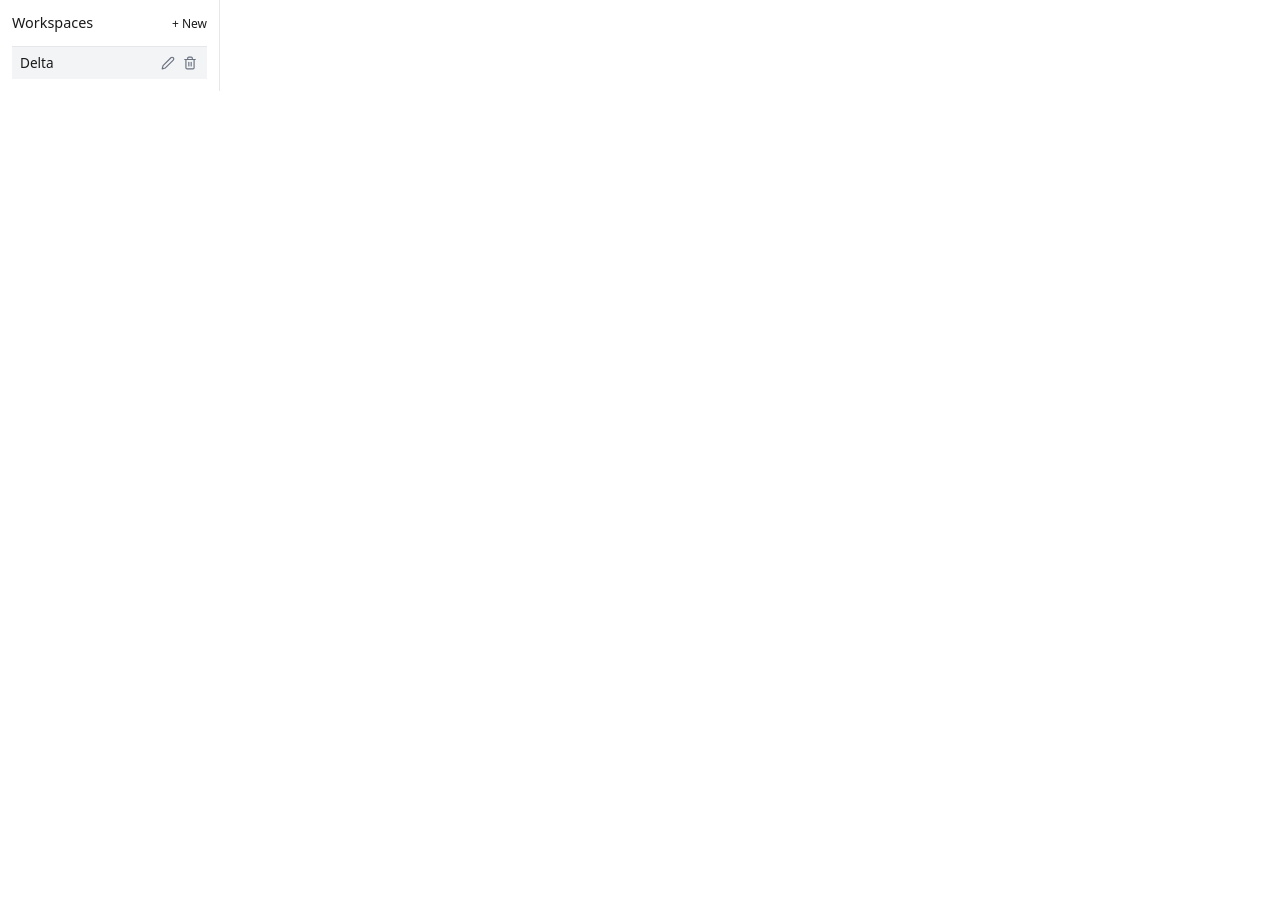
Sidebar › the delete dialog explains what is deleted
Click the button named "Delete": click(190, 63) [181,54,199,72]
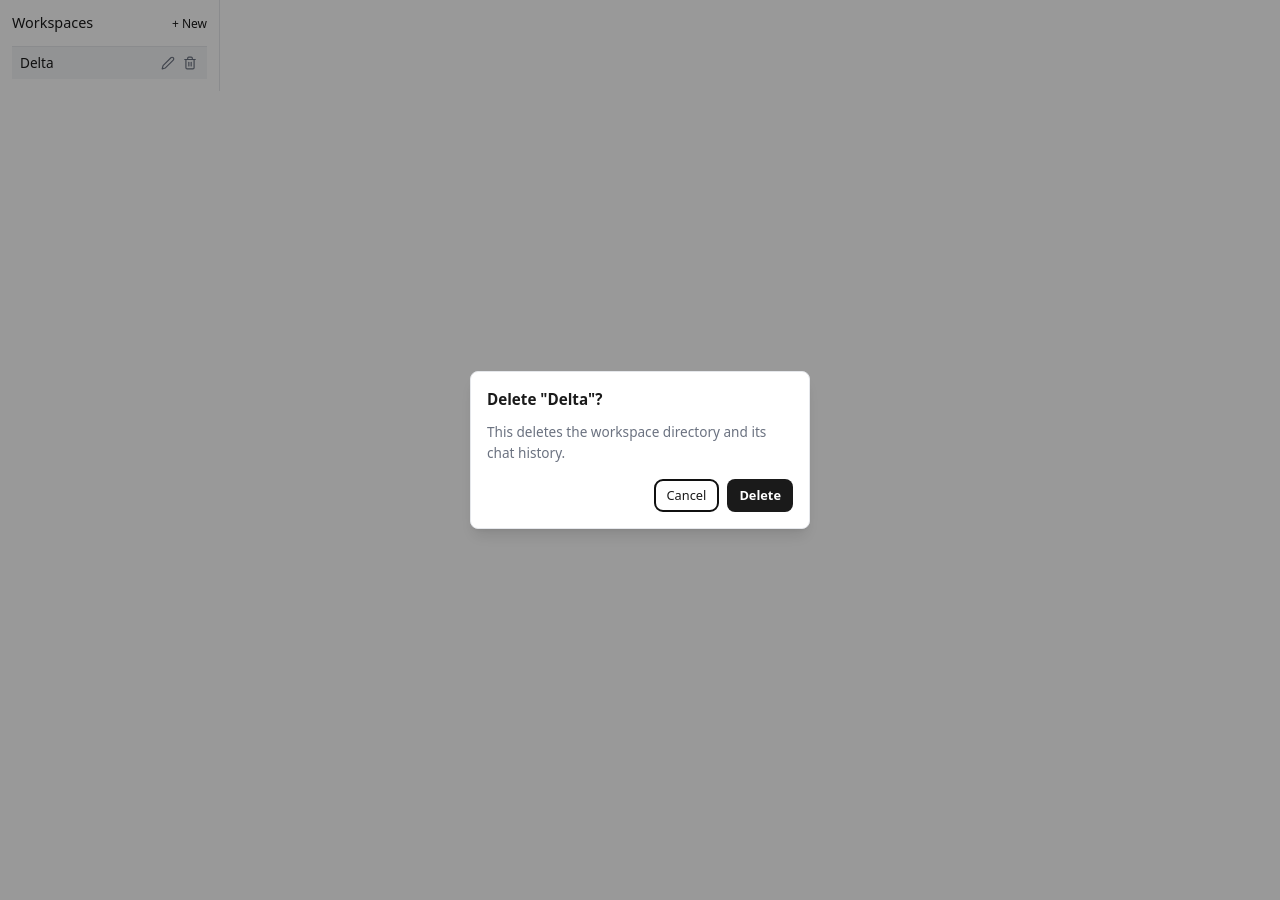
expect the heading "Delete \"Delta\"?" is shown: met, box [487,389,602,409]
expect the text "This deletes the workspace directory and its chat history." is shown: met, box [487,422,793,463]
